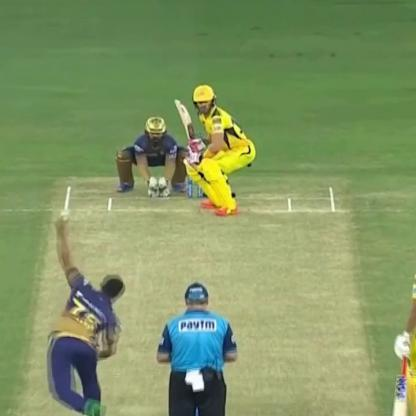ball: (56, 209, 74, 228)
bat: (172, 88, 204, 151)
pitch: (25, 178, 391, 411)
